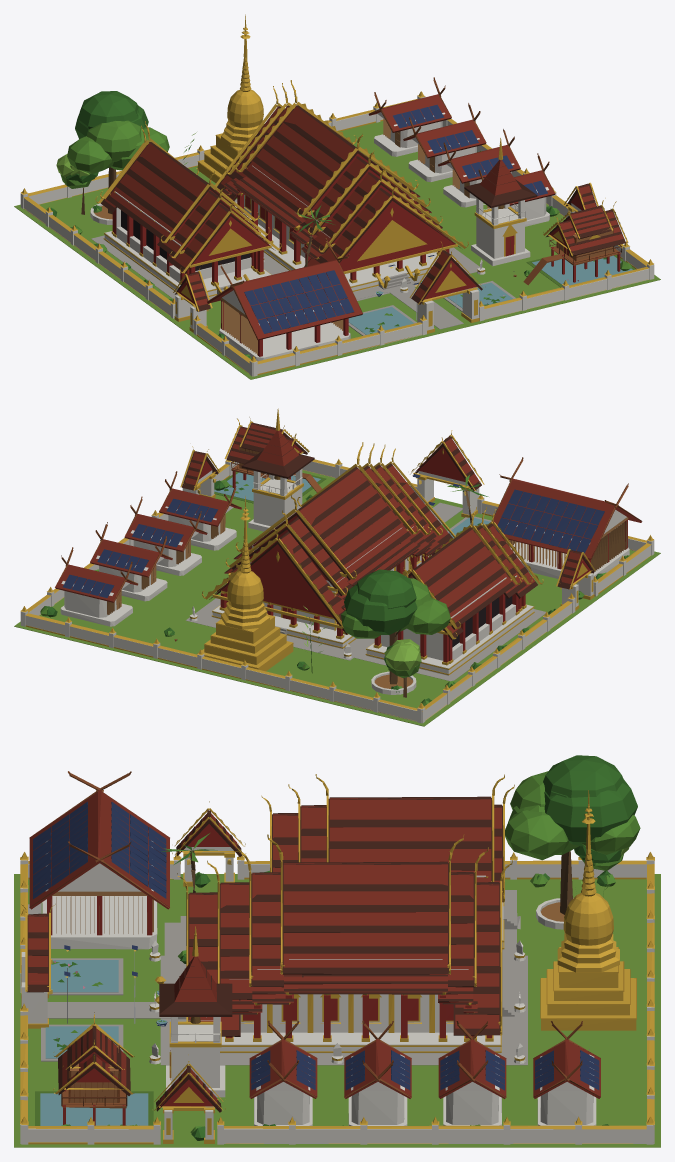
Rendered from temple_3.glb.
3 renders of one model, top to bottom at view 1: azimuth 30°, elevation 25°; view 2: azimuth 150°, elevation 25°; view 3: azimuth 270°, elevation 25°, orthographic. The views are drawn at different scales.
Parts seen in each view (by area): view 1: body; view 2: body; view 3: body.
Part boxes in pixels (bbox=[...]): body: bbox=[14, 14, 660, 379]; body: bbox=[14, 408, 660, 726]; body: bbox=[14, 755, 660, 1147].
Size of the model in its own units: 47.9 by 18.27 by 47.9.
